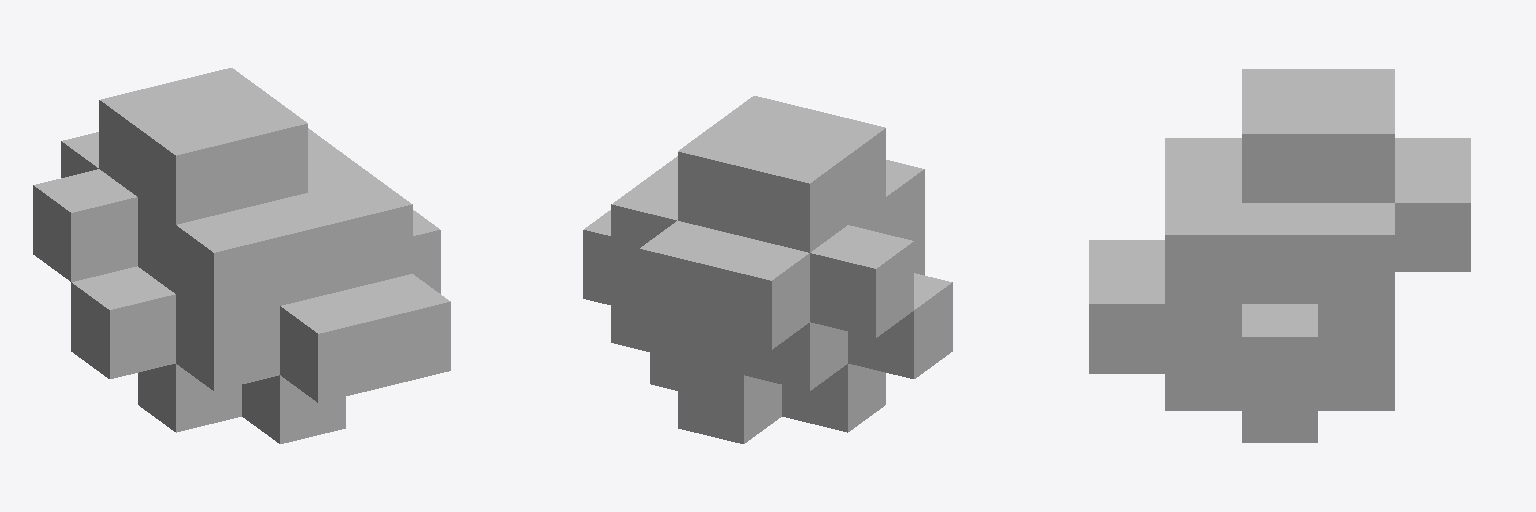
Rendered from leaves.obj.
The picture shows the model from 3 angles: view 1: azimuth 30°, elevation 25°; view 2: azimuth 150°, elevation 25°; view 3: azimuth 270°, elevation 25°; orthographic projection.
Size of the model in its own units: 5 by 4 by 5.